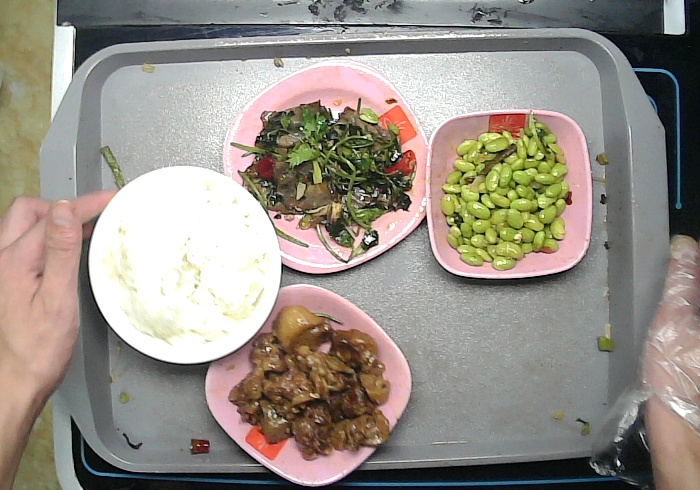SHKJ-Fan_Wan: (88, 166, 282, 364)
SHKJ-Fen_Se_Cai_Die: (205, 283, 412, 487)
SHKJ-Fen_Se_Si_Fang_Cai_Die: (221, 60, 433, 276)
SHKJ-Fen_Se_Xiao_Fang_Die: (425, 109, 593, 279)
